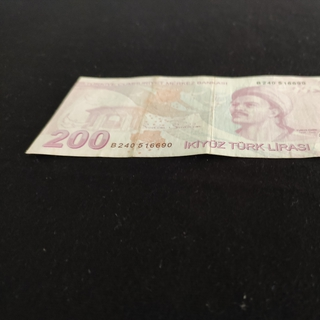200TLBack: (23, 73, 320, 159)
